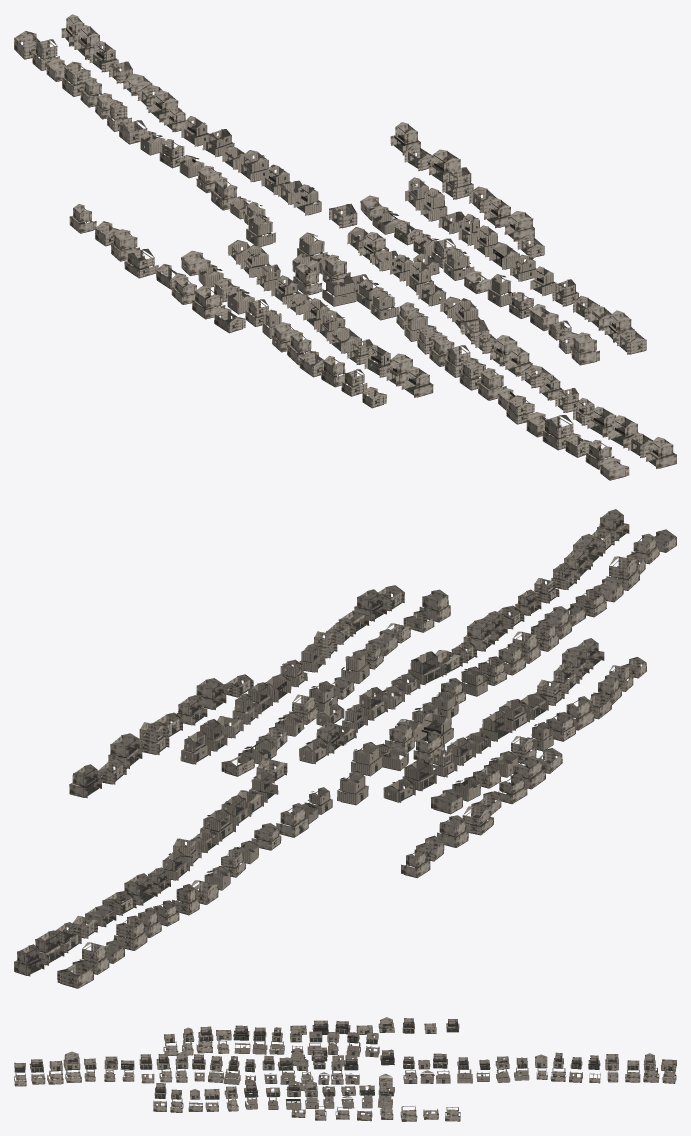
File: canal_interiors.glb
3 renders of one model, top to bottom at view 1: azimuth 30°, elevation 25°; view 2: azimuth 150°, elevation 25°; view 3: azimuth 270°, elevation 25°, orthographic. The views are drawn at different scales.
Parts seen in each view (by area): view 1: canal_interiors1, canal_interiors2, canal_interiors3, canal_interiors0; view 2: canal_interiors1, canal_interiors3, canal_interiors2, canal_interiors0; view 3: canal_interiors1, canal_interiors2, canal_interiors3, canal_interiors0.
Part boxes in pixels (box(x1,y1,x2,y2)): canal_interiors1: box(14, 14, 676, 480); canal_interiors2: box(227, 177, 536, 408); canal_interiors3: box(69, 122, 646, 365); canal_interiors0: box(211, 168, 446, 320); canal_interiors1: box(14, 509, 676, 988); canal_interiors3: box(69, 585, 562, 878); canal_interiors2: box(180, 638, 646, 777); canal_interiors0: box(219, 685, 458, 837); canal_interiors1: box(14, 1032, 676, 1086); canal_interiors2: box(163, 1025, 394, 1109); canal_interiors3: box(153, 1017, 460, 1121); canal_interiors0: box(262, 1047, 450, 1090).
Bounding box in the file's own units: 117 × 8.3 × 346.
Materials: 1 (1 with a texture image).
